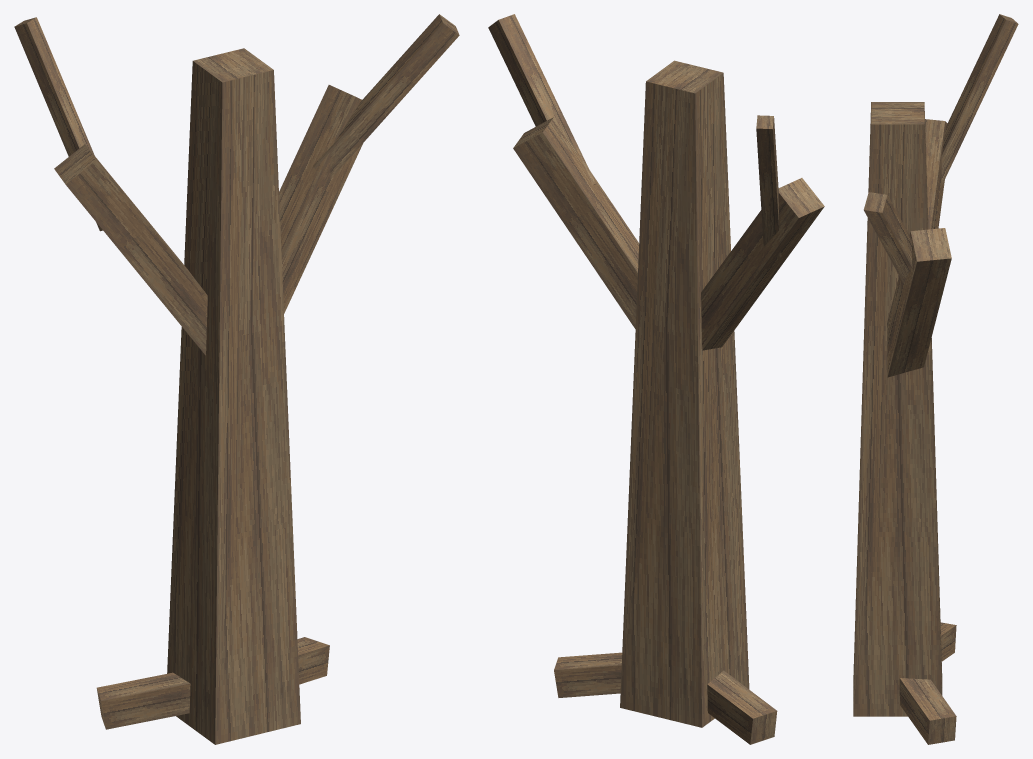
Rendered from dead_tree.glb.
3 views of the same model, side by side, from view 1: azimuth 30°, elevation 25°; view 2: azimuth 150°, elevation 25°; view 3: azimuth 270°, elevation 25° (orthographic). The views are drawn at different scales.
Parts seen in each view (by area): view 1: root; view 2: root; view 3: root.
Boxes of the visible parts, x1=… form: root: x1=14, y1=14, x2=459, y2=744; root: x1=488, y1=14, x2=824, y2=744; root: x1=853, y1=14, x2=1018, y2=744.
Bounding box in the file's own units: 1.73 × 3.07 × 0.743.
Materials: 1 (1 with a texture image).
